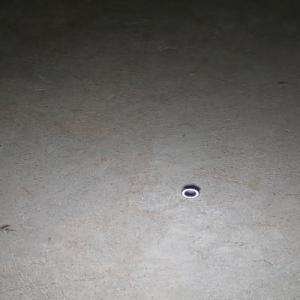Nut: (181, 187, 200, 198)
